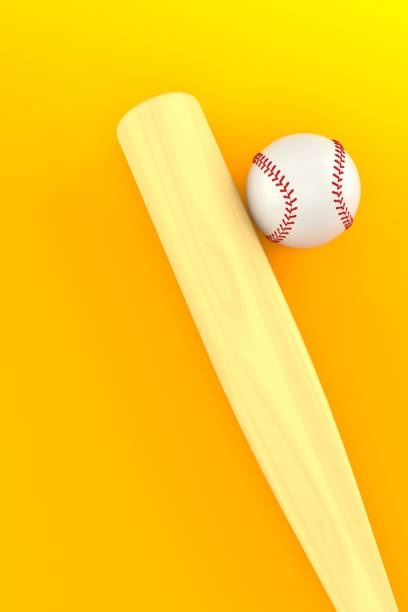bita: (113, 86, 403, 612)
